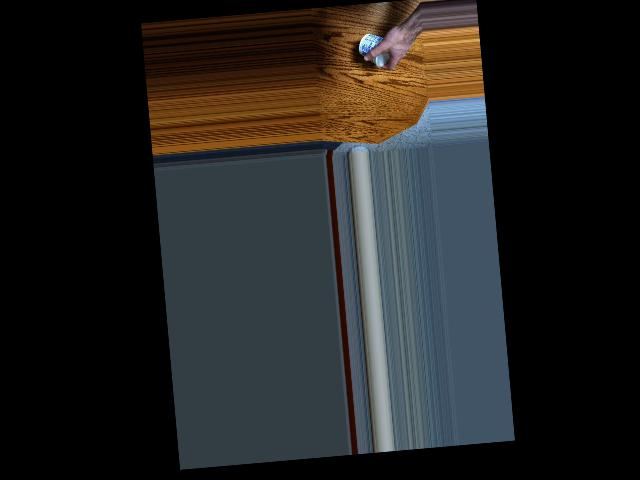cotage: (359, 31, 393, 68)
